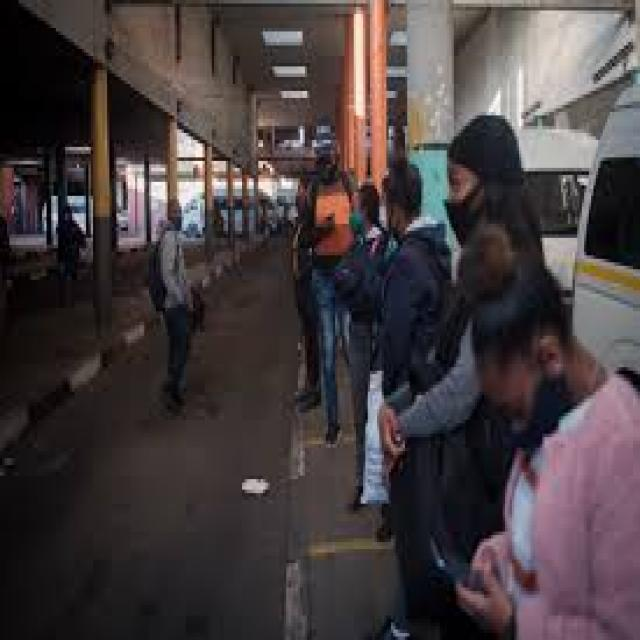Pedestrians: (142, 189, 200, 409)
